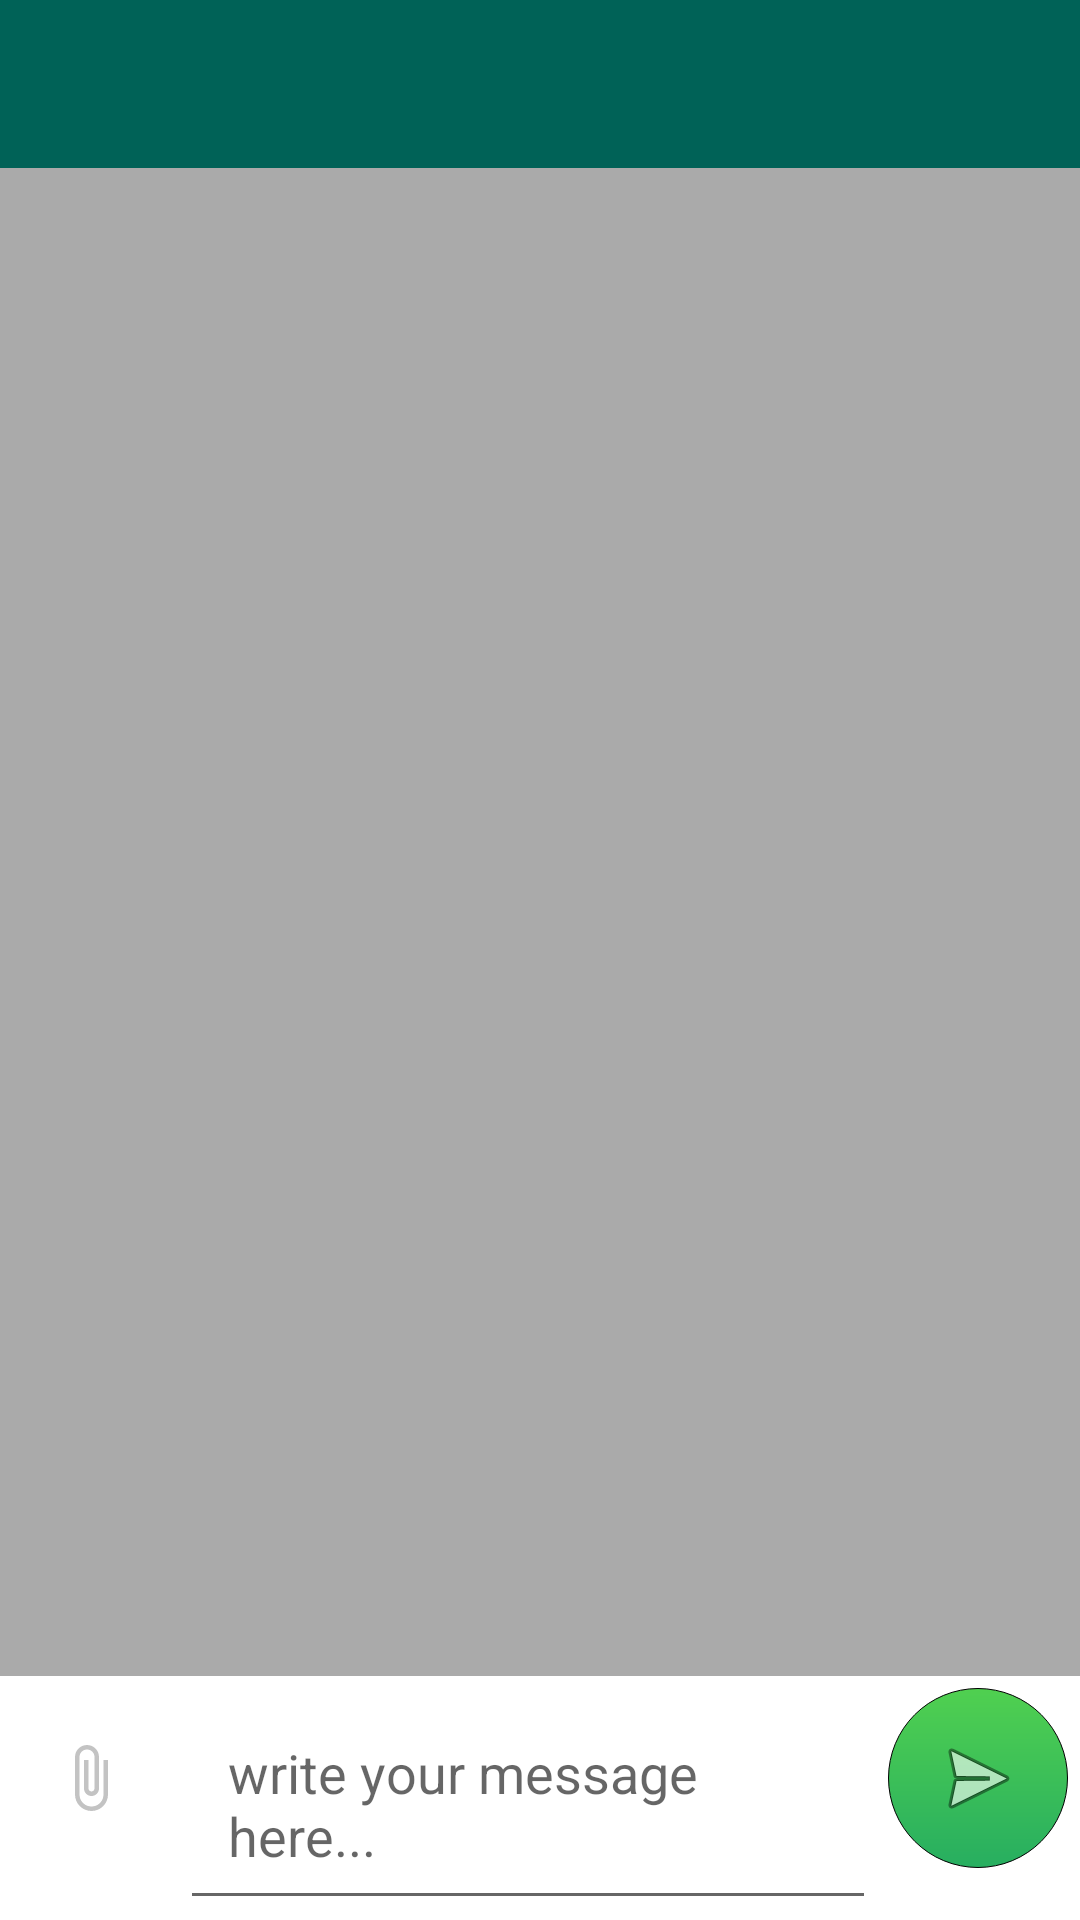

Icons on this 1080px×1920px Android screen, each with its box as (x1, y1, x2, y2):
attach file: (75, 1745, 108, 1811)
send: (888, 1688, 1068, 1868)
